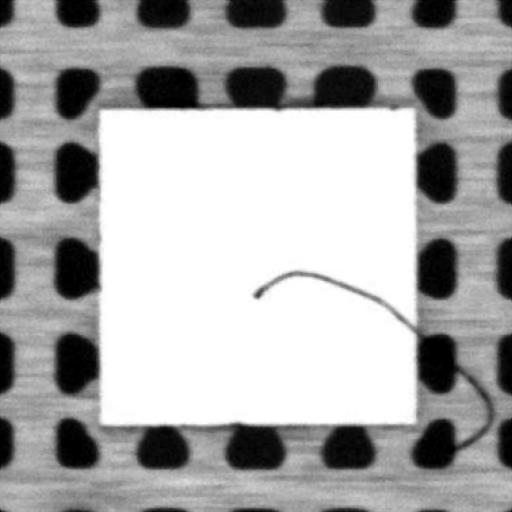DIE_INK: (252, 268, 420, 336)
